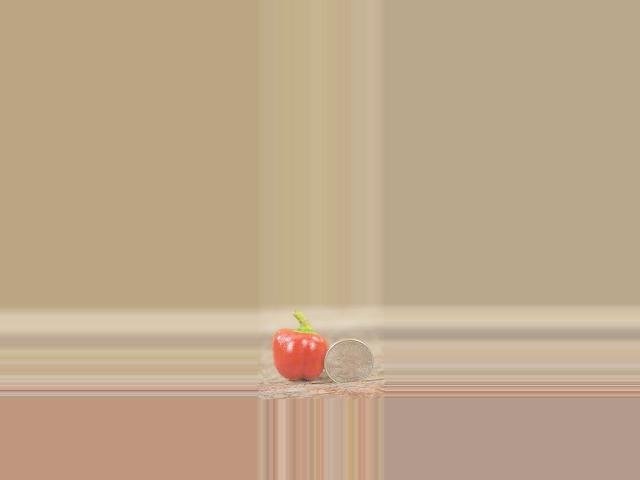bell_pepper: (271, 311, 326, 383)
